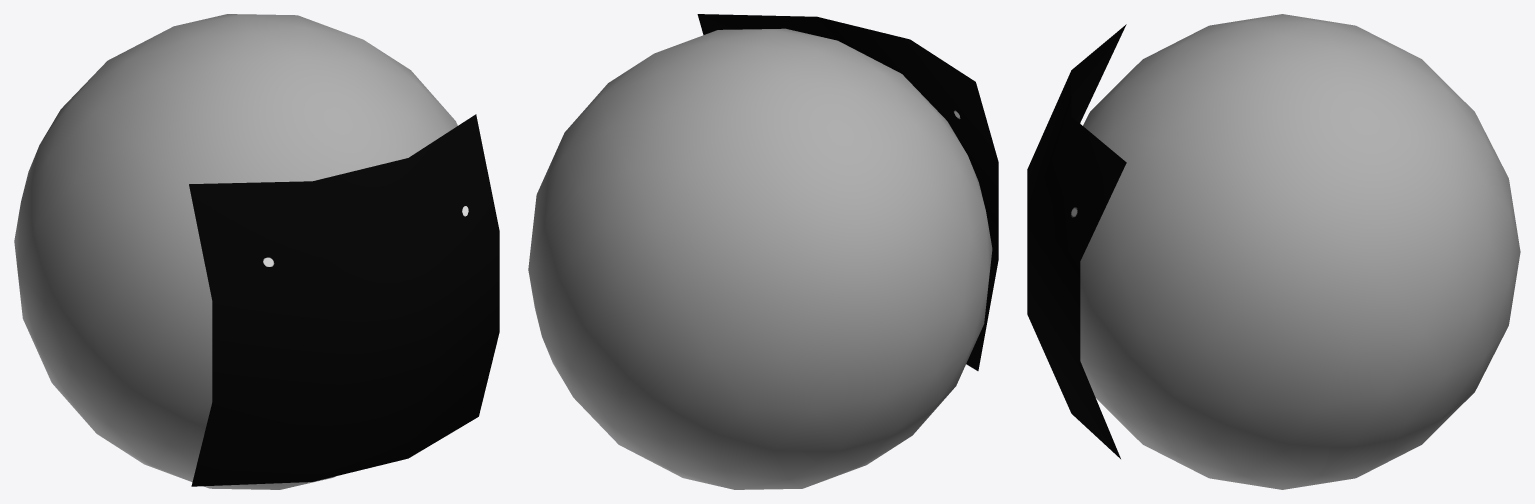
File: geosphere.fbx
3 views of the same model, side by side, from view 1: azimuth 30°, elevation 25°; view 2: azimuth 150°, elevation 25°; view 3: azimuth 270°, elevation 25° (orthographic). The views are drawn at different scales.
Parts seen in each view (by area): view 1: geosphere:Mesh, face_flat; view 2: geosphere:Mesh, face_flat; view 3: geosphere:Mesh, face_flat.
Boxes of the visible parts, bbox=[...] form: geosphere:Mesh: bbox=[14, 14, 457, 489]; face_flat: bbox=[189, 114, 499, 486]; geosphere:Mesh: bbox=[528, 28, 992, 489]; face_flat: bbox=[697, 14, 998, 370]; geosphere:Mesh: bbox=[1080, 14, 1520, 489]; face_flat: bbox=[1027, 24, 1126, 458].
Bounding box in the file's own units: 1 × 1 × 1.04.
2 materials, 1 textured.
